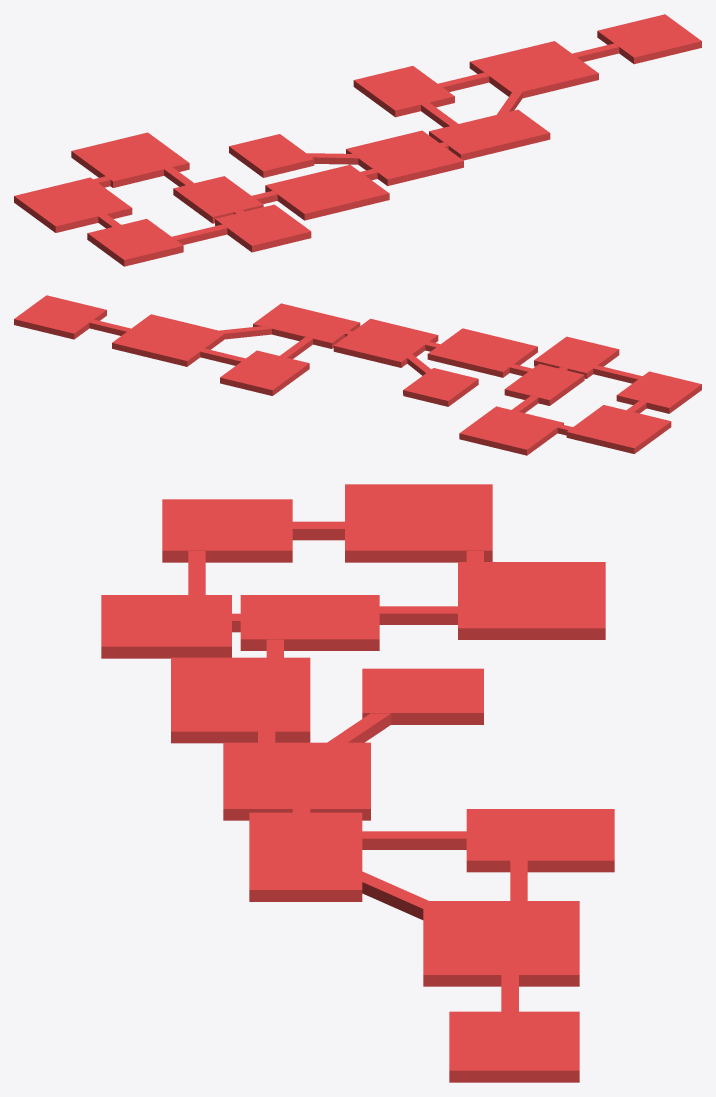
The model's file is Combiner.fbx.
3 renders of one model, top to bottom at view 1: azimuth 30°, elevation 25°; view 2: azimuth 150°, elevation 25°; view 3: azimuth 270°, elevation 25°, orthographic. The views are drawn at different scales.
Parts seen in each view (by area): view 1: Combiner; view 2: Combiner; view 3: Combiner.
Part boxes in pixels (bbox=[...]): Combiner: bbox=[14, 14, 701, 266]; Combiner: bbox=[14, 295, 701, 455]; Combiner: bbox=[101, 484, 614, 1082].
Size of the model in its own units: 15900 by 175 by 5900.
